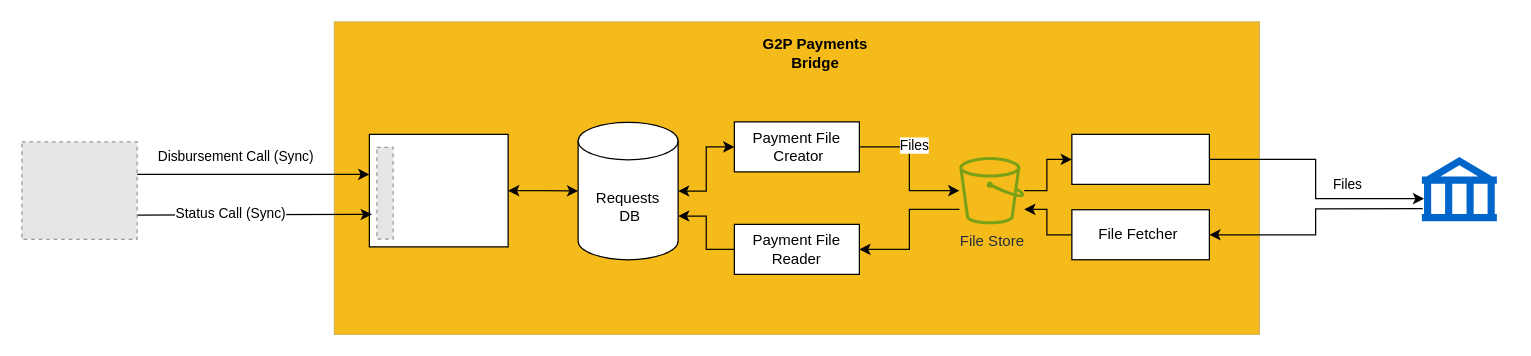
This 1531x356 diagram has some shape labels left out. Grey dashed boxes stand in for pictures. The shapes that lost their labels are listed below. From the top down, each one's box as (x1, y1, x2, y2) in pixels, then its label:
(1071, 133, 1209, 184): File Dispatcher
(368, 133, 508, 247): G2P Request Handler
(1421, 156, 1496, 220): Treasury Bank
